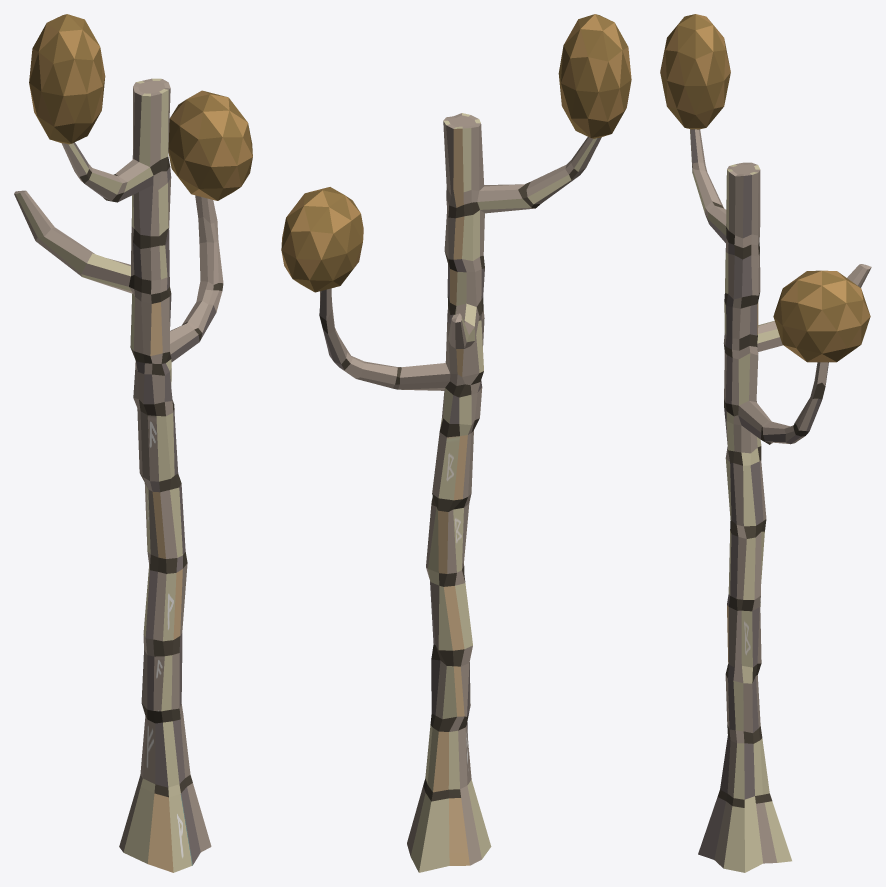
File: F_Brzoza_z_runami.fbx
3 renders of one model, left to right at view 1: azimuth 30°, elevation 25°; view 2: azimuth 150°, elevation 25°; view 3: azimuth 270°, elevation 25°, orthographic. The views are drawn at different scales.
Visible parts, largest first — view 1: F_brzoza _z_runami; view 2: F_brzoza _z_runami; view 3: F_brzoza _z_runami.
Boxes of the visible parts, <box> form: F_brzoza _z_runami: <box>14,14,252,872</box>; F_brzoza _z_runami: <box>281,14,631,872</box>; F_brzoza _z_runami: <box>660,14,871,872</box>.
Bounding box in the file's own units: 228 × 694 × 168.
